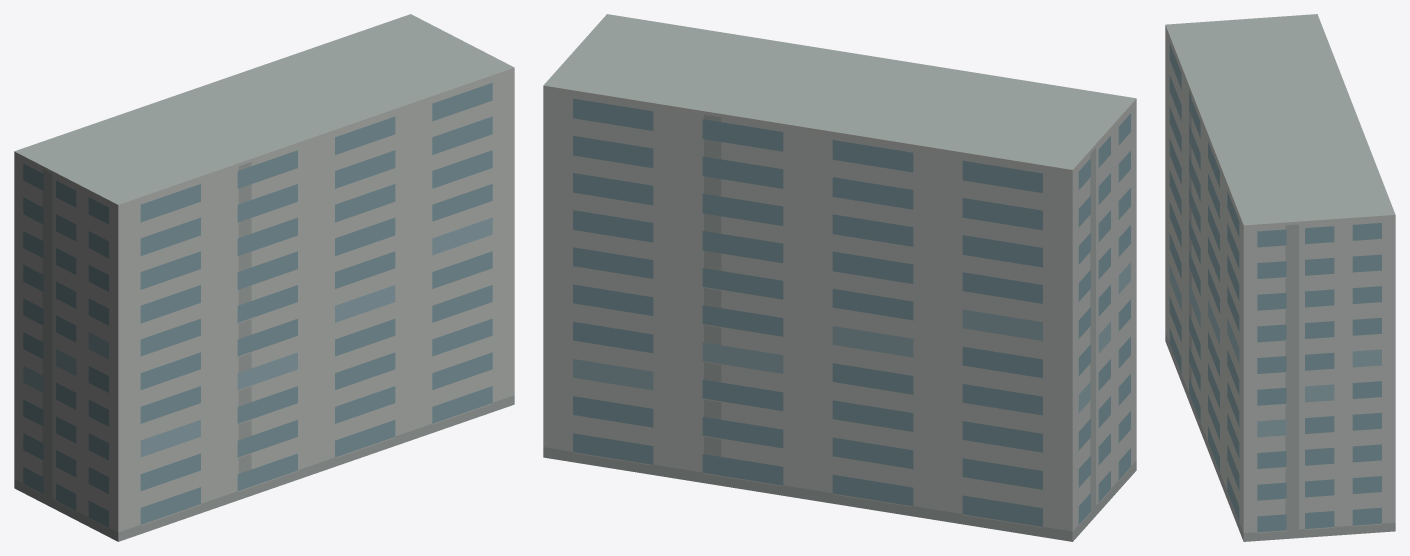
The model's file is residential-a6e39b72-03e3-426f-9590-e8670b020685.glb.
3 renders of one model, left to right at view 1: azimuth 30°, elevation 25°; view 2: azimuth 150°, elevation 25°; view 3: azimuth 270°, elevation 25°, orthographic. The views are drawn at different scales.
Parts seen in each view (by area): view 1: residential-a6e39b72-03e3-426f-9590-e8670b020685.tmp; view 2: residential-a6e39b72-03e3-426f-9590-e8670b020685.tmp; view 3: residential-a6e39b72-03e3-426f-9590-e8670b020685.tmp.
Part boxes in pixels (left/top/right/bottom): residential-a6e39b72-03e3-426f-9590-e8670b020685.tmp: left=14, top=14, right=514, bottom=541; residential-a6e39b72-03e3-426f-9590-e8670b020685.tmp: left=543, top=14, right=1136, bottom=541; residential-a6e39b72-03e3-426f-9590-e8670b020685.tmp: left=1165, top=14, right=1395, bottom=541.
Bounding box in the file's own units: 38.69 × 27 × 17.81.
